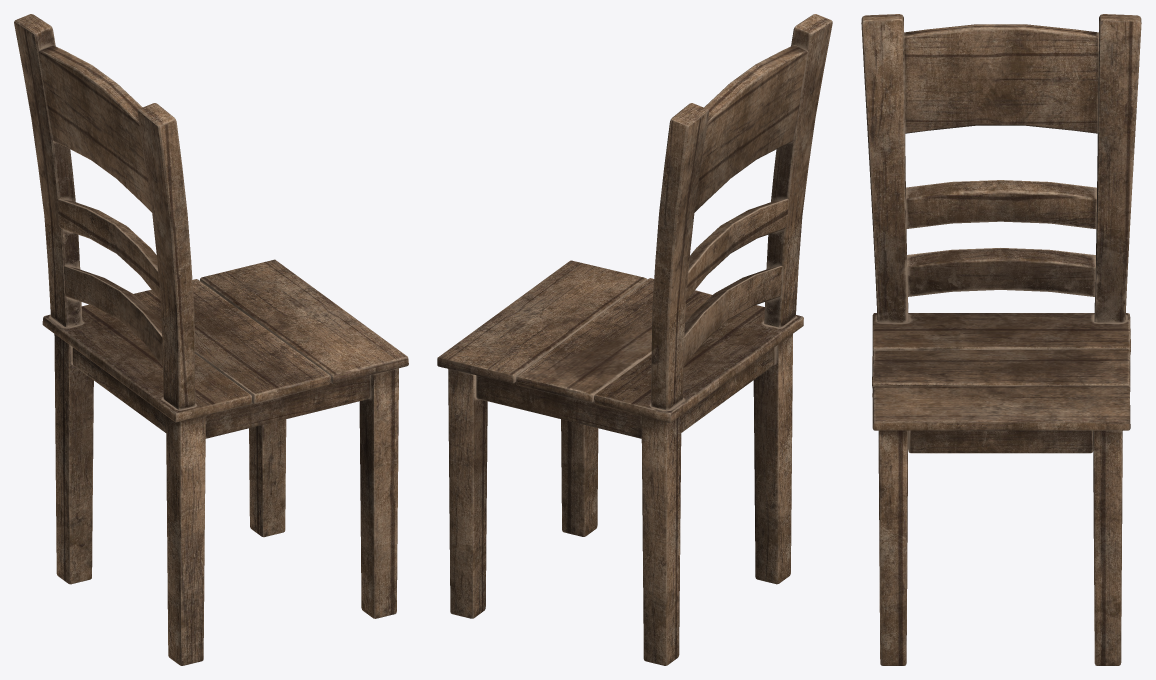
File: low_poly_old_wood_chair (1).glb
3 views of the same model, side by side, from view 1: azimuth 30°, elevation 25°; view 2: azimuth 150°, elevation 25°; view 3: azimuth 270°, elevation 25° (orthographic). The views are drawn at different scales.
Parts seen in each view (by area): view 1: Cube.005; view 2: Cube.005; view 3: Cube.005.
Boxes of the visible parts, bbox=[...] form: Cube.005: bbox=[14, 14, 408, 665]; Cube.005: bbox=[437, 14, 832, 665]; Cube.005: bbox=[861, 14, 1141, 665].
Bounding box in the file's own units: 0.5637 × 1.17 × 0.5525.
Materials: 1 (1 with a texture image).
